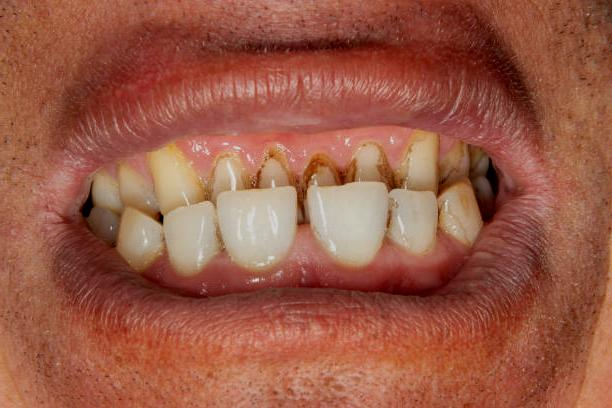Calculus: (136, 143, 201, 217), (425, 183, 488, 250), (344, 145, 400, 209), (294, 156, 350, 217), (394, 136, 445, 197), (251, 150, 302, 204), (204, 153, 254, 201)
